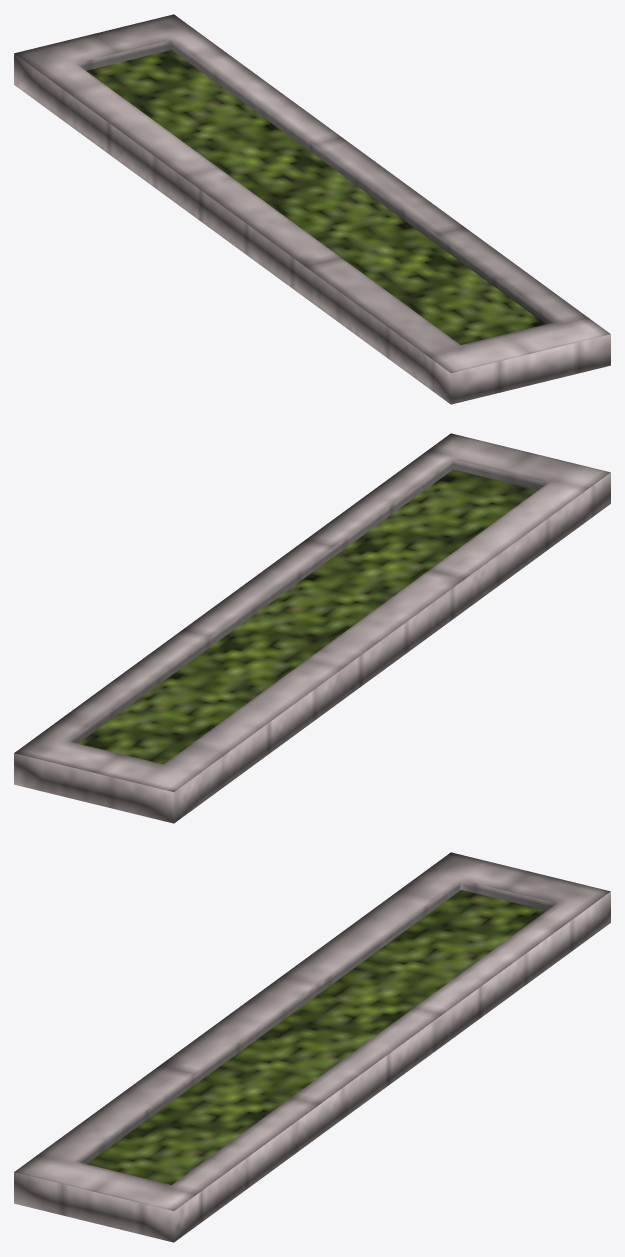
The model's file is Ambi3.fbx.
3 renders of one model, top to bottom at view 1: azimuth 30°, elevation 25°; view 2: azimuth 150°, elevation 25°; view 3: azimuth 330°, elevation 25°, orthographic.
Parts seen in each view (by area): view 1: polySurface6378.002; view 2: polySurface6378.002; view 3: polySurface6378.002.
Part boxes in pixels (<box>): polySurface6378.002: <box>14,14,610,404</box>; polySurface6378.002: <box>14,433,610,823</box>; polySurface6378.002: <box>14,852,610,1242</box>.
Bounding box in the file's own units: 0.0133 × 0.0025 × 0.063.
